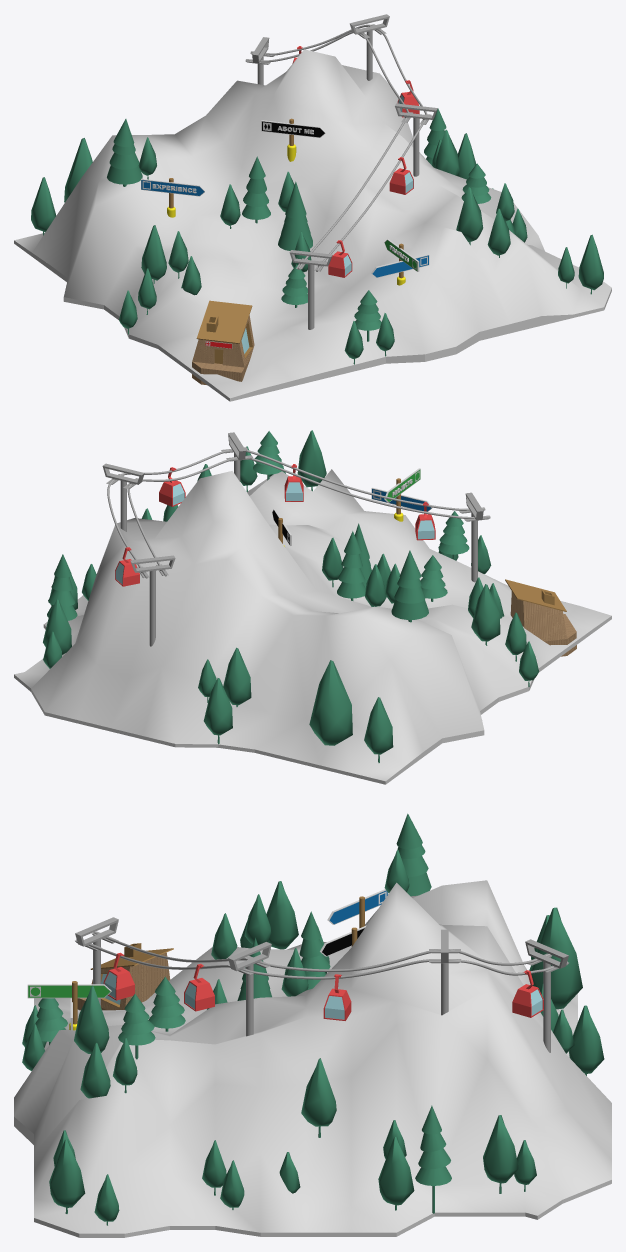
Rendered from environment.glb.
3 renders of one model, top to bottom at view 1: azimuth 30°, elevation 25°; view 2: azimuth 150°, elevation 25°; view 3: azimuth 270°, elevation 25°, orthographic. The views are drawn at different scales.
Visible parts, largest first — view 1: TERRAIN.1, HUT.1, TREES.37, TREES.28, TREES.30, CABLES.1, CABLES.2, TOWERS.1, TREES.17, TREES.22, TREES.34, TOWERS.2 (+18 smaller); view 2: TERRAIN.1, HUT.1, TREES.3, TREES.37, TREES.30, CABLES.2, CABLES.1, TREES.4, TREES.1, TREES.34, TREES.5, TOWERS.4 (+18 smaller); view 3: TERRAIN.1, TREES.3, HUT.1, TREES.9, TREES.37, TREES.8, TREES.17, TREES.12, TREES.10, TREES.22, TREES.4, TREES.34 (+28 smaller).
Part boxes in pixels (box(x1,y1,x2,y2)): TERRAIN.1: box(14, 49, 611, 401); HUT.1: box(192, 300, 254, 384); TREES.37: box(107, 119, 142, 186); TREES.28: box(278, 181, 312, 250); TREES.30: box(242, 156, 270, 223); CABLES.1: box(250, 24, 427, 271); CABLES.2: box(245, 31, 408, 269); TOWERS.1: box(289, 250, 332, 329); TREES.17: box(578, 234, 603, 294); TREES.22: box(456, 187, 483, 245); TREES.34: box(141, 225, 166, 283); TOWERS.2: box(395, 103, 437, 176); TERRAIN.1: box(14, 469, 611, 784); HUT.1: box(505, 579, 576, 656); TREES.3: box(309, 660, 352, 745); TREES.37: box(391, 550, 428, 622); TREES.30: box(337, 531, 365, 600); CABLES.2: box(127, 456, 490, 576); CABLES.1: box(107, 449, 484, 578); TREES.4: box(203, 678, 232, 743); TREES.1: box(364, 697, 393, 762); TREES.34: box(471, 584, 500, 645); TREES.5: box(223, 647, 251, 706); TOWERS.4: box(130, 555, 175, 646); TERRAIN.1: box(14, 880, 611, 1237); TREES.3: box(529, 907, 582, 1009); HUT.1: box(77, 943, 173, 1010); TREES.9: box(415, 1105, 451, 1213); TREES.37: box(396, 813, 431, 896); TREES.8: box(483, 1115, 518, 1193); TREES.17: box(49, 1139, 85, 1213); TREES.12: box(301, 1058, 336, 1137); TREES.10: box(378, 1137, 414, 1210); TREES.22: box(74, 985, 109, 1053); TREES.4: box(569, 1005, 604, 1075); TREES.34: box(266, 881, 298, 949).
Size of what is drawn, in the model's own units: 41.27 by 18.7 by 40.23.
Materials: 14 (1 with a texture image).
